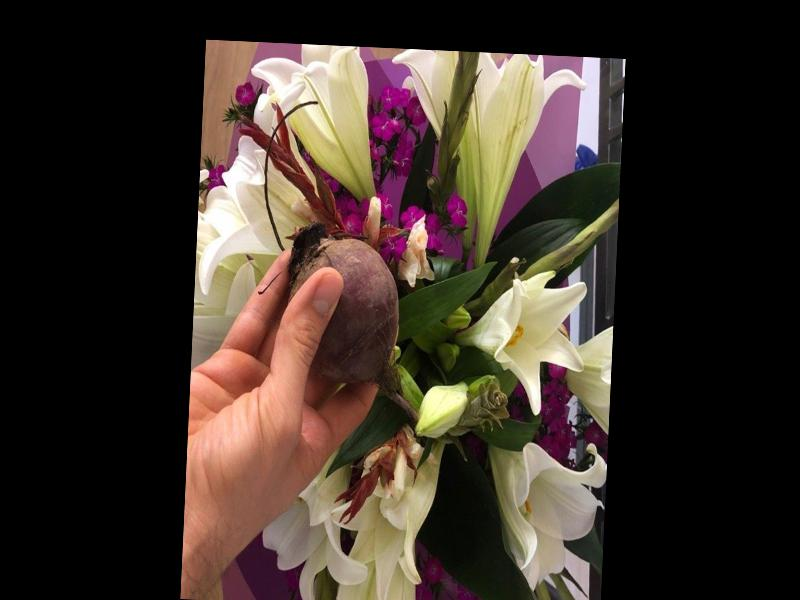Beet: (281, 221, 428, 426)
